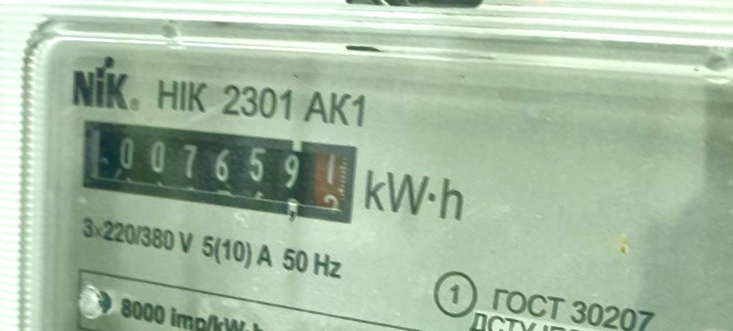0: (145, 136, 170, 178), (115, 134, 139, 174)
1: (318, 150, 342, 189)
5: (243, 144, 270, 187)
6: (209, 144, 236, 187)
7: (176, 140, 203, 182)
9: (279, 151, 305, 193)
screen: (66, 105, 368, 235)
